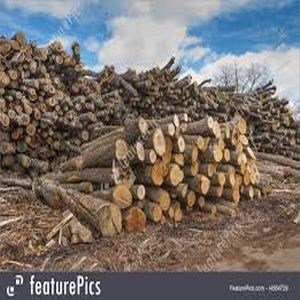log: (93, 202, 124, 238), (108, 185, 133, 209), (111, 164, 137, 187), (124, 208, 147, 234), (165, 162, 184, 186), (151, 128, 166, 157), (113, 139, 129, 163), (149, 164, 165, 187), (133, 140, 147, 163), (150, 204, 164, 225), (198, 175, 212, 195), (158, 192, 172, 211), (136, 116, 148, 136), (172, 151, 186, 167), (187, 146, 200, 163), (212, 146, 224, 164), (185, 191, 197, 208), (165, 122, 177, 138), (135, 185, 147, 201), (159, 151, 173, 164), (166, 199, 175, 219), (175, 136, 186, 152), (243, 169, 252, 188), (178, 184, 189, 199), (234, 153, 247, 165), (223, 147, 232, 164), (204, 115, 214, 130), (216, 172, 226, 187), (148, 149, 157, 164), (190, 161, 199, 176), (231, 189, 240, 204), (173, 209, 183, 222), (207, 164, 217, 177), (234, 174, 244, 187), (228, 173, 236, 188), (196, 135, 204, 149), (196, 197, 206, 208), (215, 186, 224, 198), (247, 185, 254, 200), (172, 114, 180, 127), (210, 204, 217, 216)
